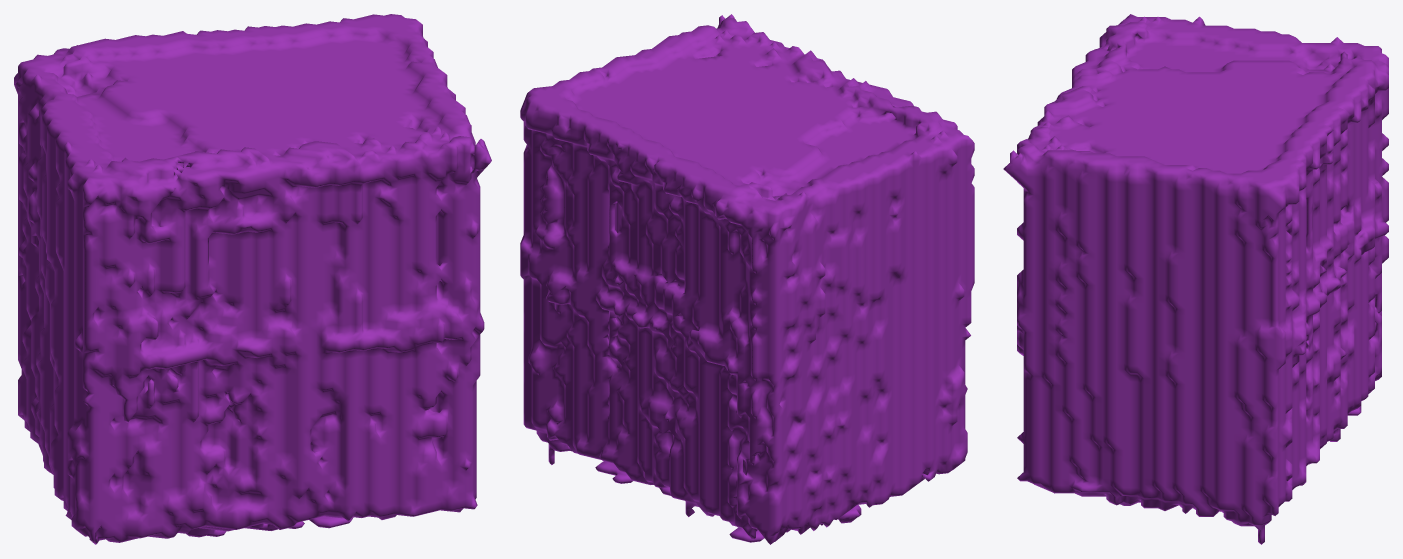
Rendered from gen9_colored.obj.
3 renders of one model, left to right at view 1: azimuth 30°, elevation 25°; view 2: azimuth 150°, elevation 25°; view 3: azimuth 270°, elevation 25°, orthographic. The views are drawn at different scales.
Visible parts, largest first — view 1: gen9.obj; view 2: gen9.obj; view 3: gen9.obj.
Boxes of the visible parts, x1,y1,x2,y2 form: gen9.obj: (14,14,491,544); gen9.obj: (520,14,974,544); gen9.obj: (1003,14,1388,544).
Size of the model in its own units: 62 by 59 by 56.
